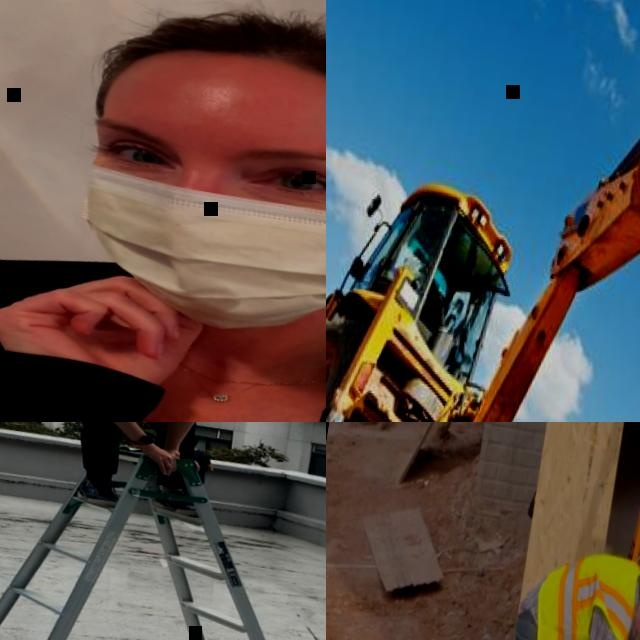Mask: (76, 119, 326, 349)
NO-Hardhat: (105, 0, 326, 133)
NO-Mask: (635, 612, 640, 636)
NO-Safety Vest: (0, 271, 326, 422)
Person: (0, 0, 326, 422), (28, 422, 247, 525), (484, 526, 640, 640)
Safety Vest: (525, 541, 640, 640)
machinery: (326, 0, 640, 422)
